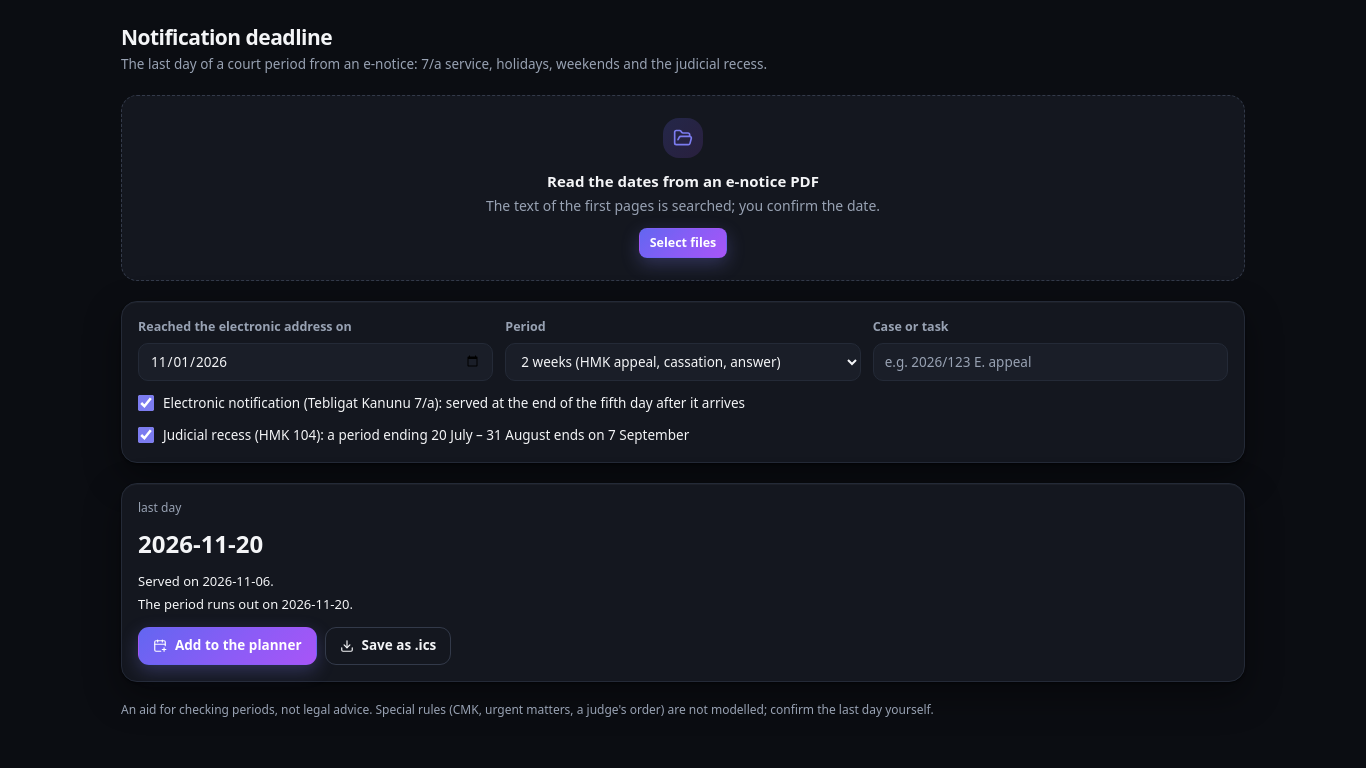
Test: notification deadline screen › drops the five days for a paper service
This screenshot has width=1366, height=768.
Click the checkbox labelled "Electronic notification": (146, 403) [138, 395, 154, 411]
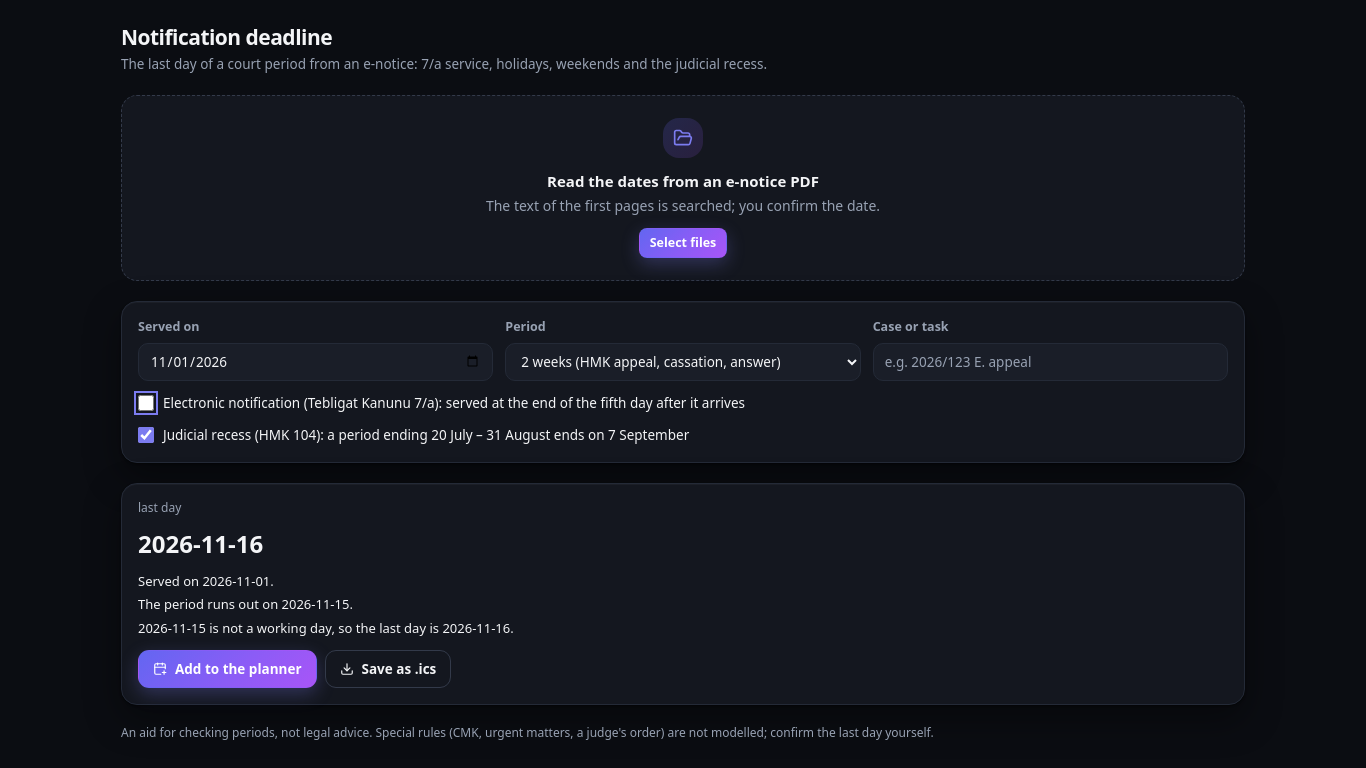
In the date field labelled "Served on": (316, 362) [138, 343, 493, 381], type "2026-01-05"
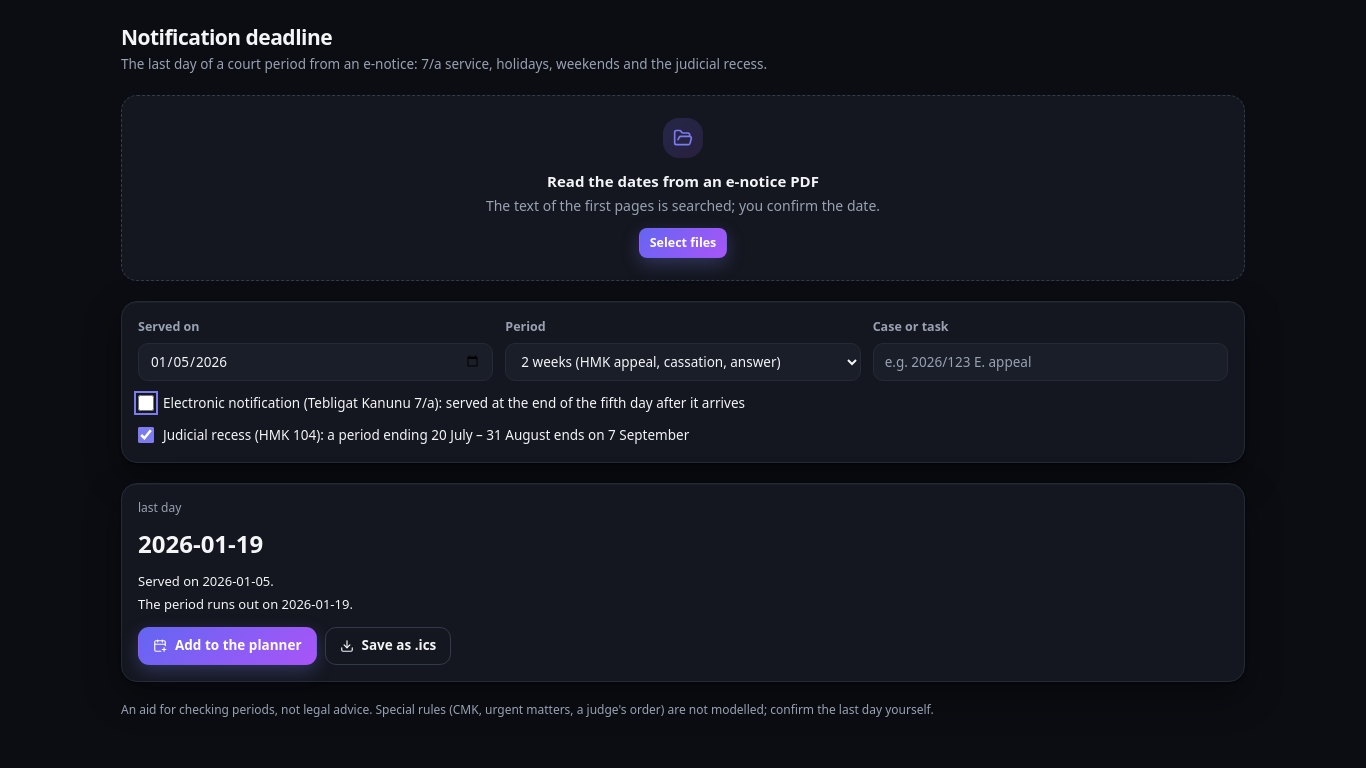
Now the text with test id "deadline-result" reads "2026-01-19", box [138, 526, 263, 560]
